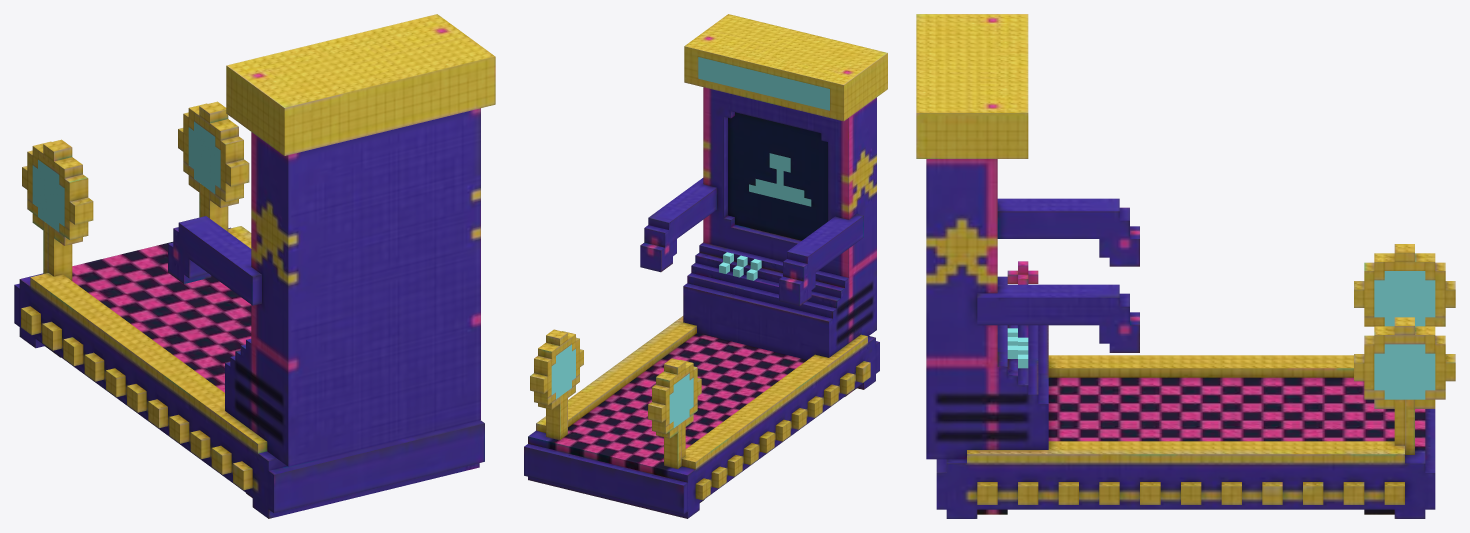
The model's file is arcade-cabinet.glb.
The picture shows the model from 3 angles, left to right: view 1: azimuth 30°, elevation 25°; view 2: azimuth 150°, elevation 25°; view 3: azimuth 270°, elevation 25°; orthographic projection. The views are drawn at different scales.
Parts seen in each view (by area): view 1: Body.002, Glow.002; view 2: Body.002, Glow.002; view 3: Body.002, Glow.002.
Part boxes in pixels (bbox=[...]): Body.002: bbox=[14, 14, 495, 518]; Glow.002: bbox=[32, 121, 220, 232]; Body.002: bbox=[524, 14, 887, 518]; Glow.002: bbox=[551, 57, 829, 427]; Body.002: bbox=[916, 14, 1455, 518]; Glow.002: bbox=[1007, 271, 1435, 399].
Bounding box in the file's own units: 5 × 8.8 × 10.6.
2 materials, 1 textured.
